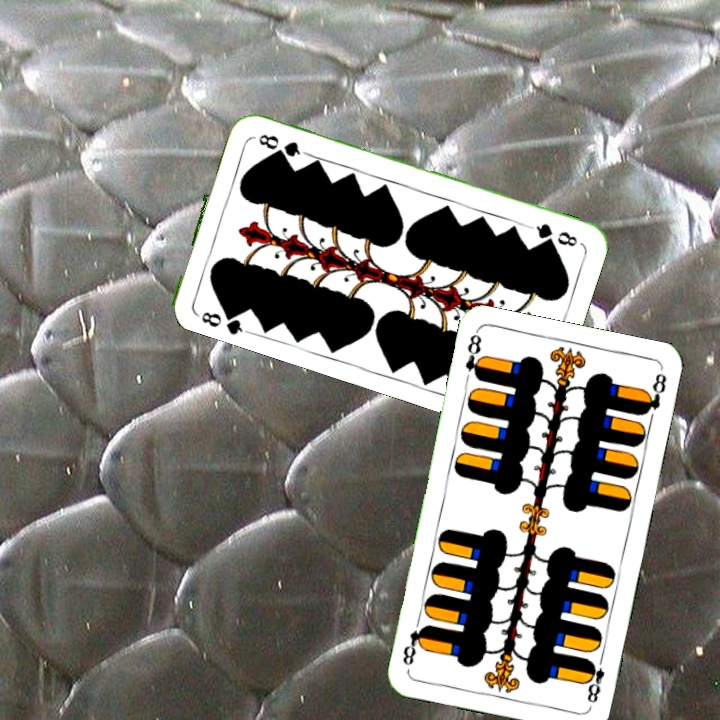E8: (581, 651, 607, 706), (461, 329, 487, 383)
G8: (191, 304, 249, 337), (525, 219, 580, 249)
